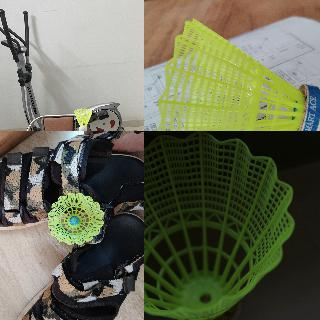shuttlecock: (144, 132, 294, 319), (155, 16, 319, 130), (47, 192, 101, 244), (74, 107, 93, 130)
